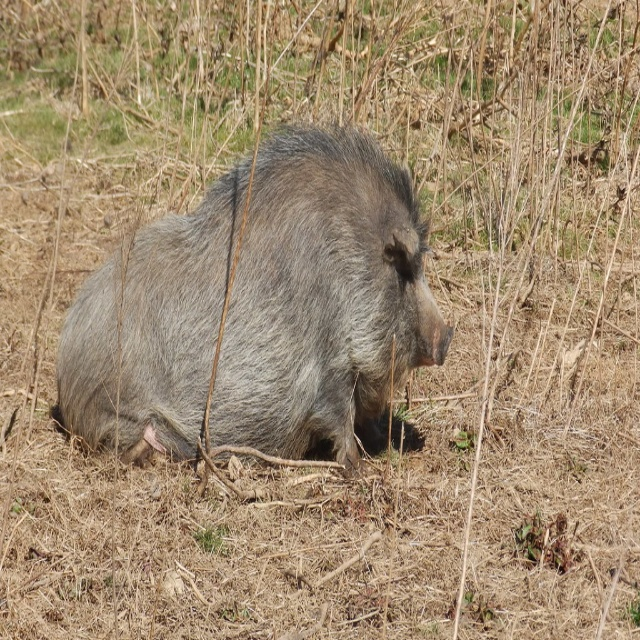Pig: (55, 112, 454, 480)
